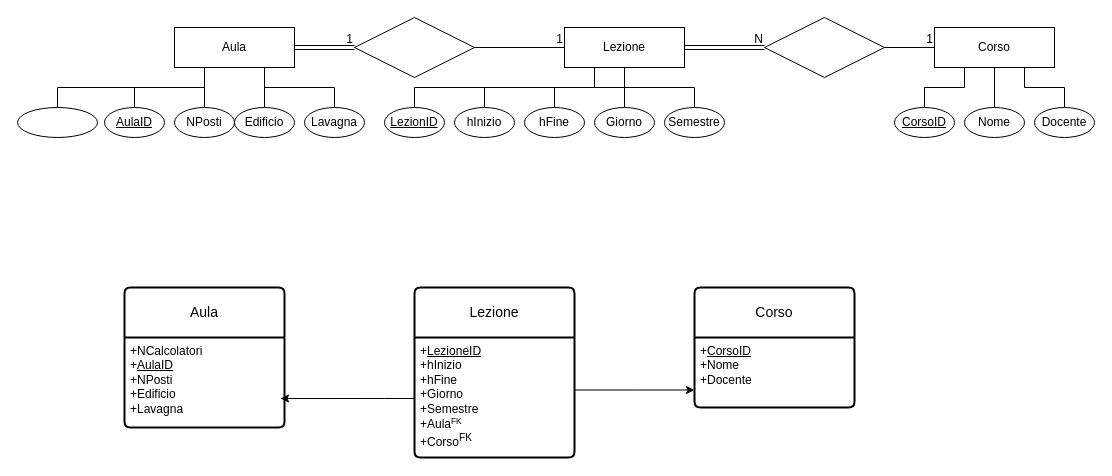
Image size: 1112x476. Some labels were removed from this diagram. Here are the shapes that lost their labels. From the top down, the centre of each, then its label:
At point 414,47: "Si tiene".
At point 824,47: "Appartiene a".
At point 57,122: "NCalcolatori".
